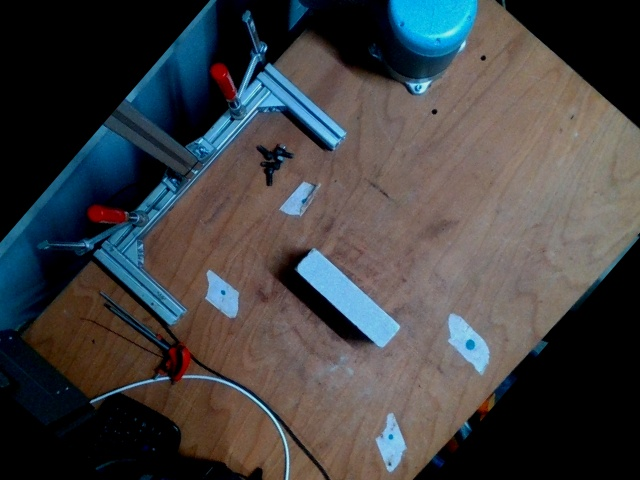brick-side: (296, 249, 400, 349)
